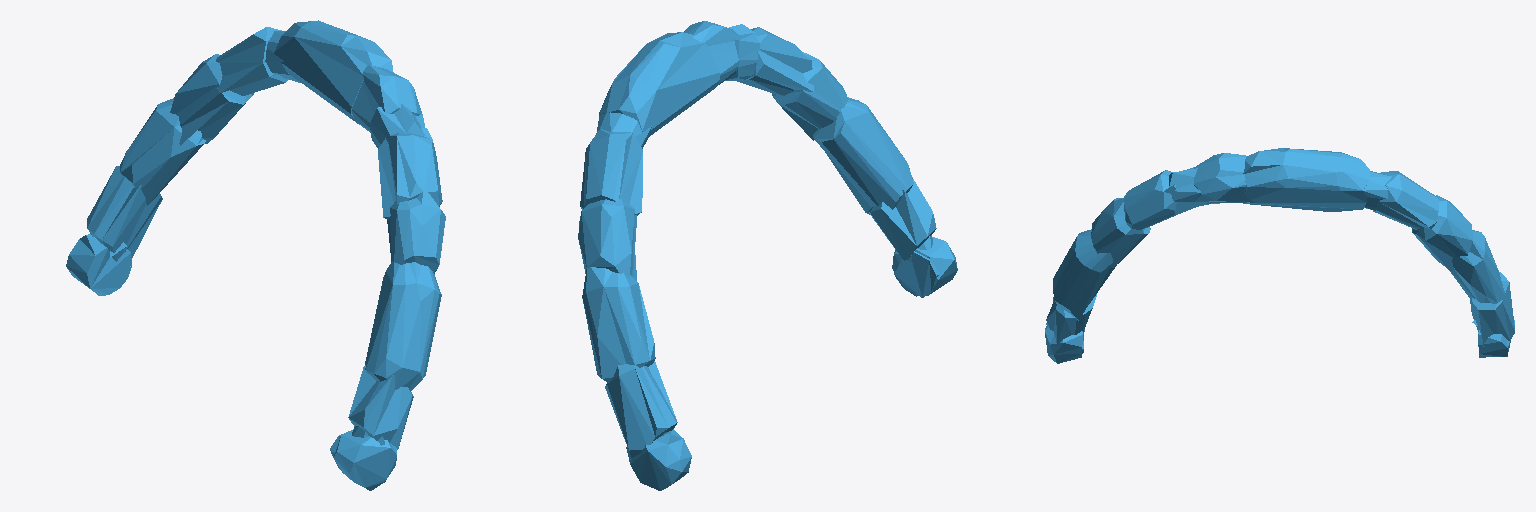
The robot description file, URDF, robot "partnet_3c173caf-9a3d-4f04-a150-bd295f8651c0-0":
<?xml version="1.0" ?><robot name="partnet_3c173caf-9a3d-4f04-a150-bd295f8651c0-0">
	<link name="base"/>
	<link name="link_0">
		<visual>
			<origin xyz="0 -0.5762112379034288 0.024401787677779792"/>
			<geometry>
				<mesh filename="new_objs/102352_link_0_23.obj"/>
			</geometry>
		</visual>
		<visual>
			<origin xyz="0 -0.5762112379034288 0.024401787677779792"/>
			<geometry>
				<mesh filename="new_objs/102352_link_0_15.obj"/>
			</geometry>
		</visual>
		<visual>
			<origin xyz="0 -0.5762112379034288 0.024401787677779792"/>
			<geometry>
				<mesh filename="new_objs/102352_link_0_14.obj"/>
			</geometry>
		</visual>
		<visual>
			<origin xyz="0 -0.5762112379034288 0.024401787677779792"/>
			<geometry>
				<mesh filename="new_objs/102352_link_0_18.obj"/>
			</geometry>
		</visual>
		<visual>
			<origin xyz="0 -0.5762112379034288 0.024401787677779792"/>
			<geometry>
				<mesh filename="new_objs/102352_link_0_7.obj"/>
			</geometry>
		</visual>
		<visual>
			<origin xyz="0 -0.5762112379034288 0.024401787677779792"/>
			<geometry>
				<mesh filename="new_objs/102352_link_0_10.obj"/>
			</geometry>
		</visual>
		<visual>
			<origin xyz="0 -0.5762112379034288 0.024401787677779792"/>
			<geometry>
				<mesh filename="new_objs/102352_link_0_9.obj"/>
			</geometry>
		</visual>
		<visual>
			<origin xyz="0 -0.5762112379034288 0.024401787677779792"/>
			<geometry>
				<mesh filename="new_objs/102352_link_0_20.obj"/>
			</geometry>
		</visual>
		<visual>
			<origin xyz="0 -0.5762112379034288 0.024401787677779792"/>
			<geometry>
				<mesh filename="new_objs/102352_link_0_6.obj"/>
			</geometry>
		</visual>
		<visual>
			<origin xyz="0 -0.5762112379034288 0.024401787677779792"/>
			<geometry>
				<mesh filename="new_objs/102352_link_0_27.obj"/>
			</geometry>
		</visual>
		<visual>
			<origin xyz="0 -0.5762112379034288 0.024401787677779792"/>
			<geometry>
				<mesh filename="new_objs/102352_link_0_0.obj"/>
			</geometry>
		</visual>
		<visual>
			<origin xyz="0 -0.5762112379034288 0.024401787677779792"/>
			<geometry>
				<mesh filename="new_objs/102352_link_0_5.obj"/>
			</geometry>
		</visual>
		<visual>
			<origin xyz="0 -0.5762112379034288 0.024401787677779792"/>
			<geometry>
				<mesh filename="new_objs/102352_link_0_4.obj"/>
			</geometry>
		</visual>
		<visual>
			<origin xyz="0 -0.5762112379034288 0.024401787677779792"/>
			<geometry>
				<mesh filename="new_objs/102352_link_0_11.obj"/>
			</geometry>
		</visual>
		<visual>
			<origin xyz="0 -0.5762112379034288 0.024401787677779792"/>
			<geometry>
				<mesh filename="new_objs/102352_link_0_21.obj"/>
			</geometry>
		</visual>
		<visual>
			<origin xyz="0 -0.5762112379034288 0.024401787677779792"/>
			<geometry>
				<mesh filename="new_objs/102352_link_0_12.obj"/>
			</geometry>
		</visual>
		<visual>
			<origin xyz="0 -0.5762112379034288 0.024401787677779792"/>
			<geometry>
				<mesh filename="new_objs/102352_link_0_26.obj"/>
			</geometry>
		</visual>
		<visual>
			<origin xyz="0 -0.5762112379034288 0.024401787677779792"/>
			<geometry>
				<mesh filename="new_objs/102352_link_0_22.obj"/>
			</geometry>
		</visual>
		<visual>
			<origin xyz="0 -0.5762112379034288 0.024401787677779792"/>
			<geometry>
				<mesh filename="new_objs/102352_link_0_16.obj"/>
			</geometry>
		</visual>
		<visual>
			<origin xyz="0 -0.5762112379034288 0.024401787677779792"/>
			<geometry>
				<mesh filename="new_objs/102352_link_0_13.obj"/>
			</geometry>
		</visual>
		<visual>
			<origin xyz="0 -0.5762112379034288 0.024401787677779792"/>
			<geometry>
				<mesh filename="new_objs/102352_link_0_2.obj"/>
			</geometry>
		</visual>
		<visual>
			<origin xyz="0 -0.5762112379034288 0.024401787677779792"/>
			<geometry>
				<mesh filename="new_objs/102352_link_0_8.obj"/>
			</geometry>
		</visual>
		<visual>
			<origin xyz="0 -0.5762112379034288 0.024401787677779792"/>
			<geometry>
				<mesh filename="new_objs/102352_link_0_3.obj"/>
			</geometry>
		</visual>
		<visual>
			<origin xyz="0 -0.5762112379034288 0.024401787677779792"/>
			<geometry>
				<mesh filename="new_objs/102352_link_0_17.obj"/>
			</geometry>
		</visual>
		<visual>
			<origin xyz="0 -0.5762112379034288 0.024401787677779792"/>
			<geometry>
				<mesh filename="new_objs/102352_link_0_19.obj"/>
			</geometry>
		</visual>
		<visual>
			<origin xyz="0 -0.5762112379034288 0.024401787677779792"/>
			<geometry>
				<mesh filename="new_objs/102352_link_0_25.obj"/>
			</geometry>
		</visual>
		<visual>
			<origin xyz="0 -0.5762112379034288 0.024401787677779792"/>
			<geometry>
				<mesh filename="new_objs/102352_link_0_1.obj"/>
			</geometry>
		</visual>
		<visual>
			<origin xyz="0 -0.5762112379034288 0.024401787677779792"/>
			<geometry>
				<mesh filename="new_objs/102352_link_0_24.obj"/>
			</geometry>
		</visual>
		
		
		
		<collision>
			<origin xyz="0 -0.5762112379034288 0.024401787677779792"/>
			<geometry>
				<mesh filename="new_objs/102352_link_0_23.obj"/>
			</geometry>
		</collision><collision>
			<origin xyz="0 -0.5762112379034288 0.024401787677779792"/>
			<geometry>
				<mesh filename="new_objs/102352_link_0_15.obj"/>
			</geometry>
		</collision><collision>
			<origin xyz="0 -0.5762112379034288 0.024401787677779792"/>
			<geometry>
				<mesh filename="new_objs/102352_link_0_14.obj"/>
			</geometry>
		</collision><collision>
			<origin xyz="0 -0.5762112379034288 0.024401787677779792"/>
			<geometry>
				<mesh filename="new_objs/102352_link_0_18.obj"/>
			</geometry>
		</collision><collision>
			<origin xyz="0 -0.5762112379034288 0.024401787677779792"/>
			<geometry>
				<mesh filename="new_objs/102352_link_0_7.obj"/>
			</geometry>
		</collision><collision>
			<origin xyz="0 -0.5762112379034288 0.024401787677779792"/>
			<geometry>
				<mesh filename="new_objs/102352_link_0_10.obj"/>
			</geometry>
		</collision><collision>
			<origin xyz="0 -0.5762112379034288 0.024401787677779792"/>
			<geometry>
				<mesh filename="new_objs/102352_link_0_9.obj"/>
			</geometry>
		</collision><collision>
			<origin xyz="0 -0.5762112379034288 0.024401787677779792"/>
			<geometry>
				<mesh filename="new_objs/102352_link_0_20.obj"/>
			</geometry>
		</collision><collision>
			<origin xyz="0 -0.5762112379034288 0.024401787677779792"/>
			<geometry>
				<mesh filename="new_objs/102352_link_0_6.obj"/>
			</geometry>
		</collision><collision>
			<origin xyz="0 -0.5762112379034288 0.024401787677779792"/>
			<geometry>
				<mesh filename="new_objs/102352_link_0_27.obj"/>
			</geometry>
		</collision><collision>
			<origin xyz="0 -0.5762112379034288 0.024401787677779792"/>
			<geometry>
				<mesh filename="new_objs/102352_link_0_0.obj"/>
			</geometry>
		</collision><collision>
			<origin xyz="0 -0.5762112379034288 0.024401787677779792"/>
			<geometry>
				<mesh filename="new_objs/102352_link_0_5.obj"/>
			</geometry>
		</collision><collision>
			<origin xyz="0 -0.5762112379034288 0.024401787677779792"/>
			<geometry>
				<mesh filename="new_objs/102352_link_0_4.obj"/>
			</geometry>
		</collision><collision>
			<origin xyz="0 -0.5762112379034288 0.024401787677779792"/>
			<geometry>
				<mesh filename="new_objs/102352_link_0_11.obj"/>
			</geometry>
		</collision><collision>
			<origin xyz="0 -0.5762112379034288 0.024401787677779792"/>
			<geometry>
				<mesh filename="new_objs/102352_link_0_21.obj"/>
			</geometry>
		</collision><collision>
			<origin xyz="0 -0.5762112379034288 0.024401787677779792"/>
			<geometry>
				<mesh filename="new_objs/102352_link_0_12.obj"/>
			</geometry>
		</collision><collision>
			<origin xyz="0 -0.5762112379034288 0.024401787677779792"/>
			<geometry>
				<mesh filename="new_objs/102352_link_0_26.obj"/>
			</geometry>
		</collision><collision>
			<origin xyz="0 -0.5762112379034288 0.024401787677779792"/>
			<geometry>
				<mesh filename="new_objs/102352_link_0_22.obj"/>
			</geometry>
		</collision><collision>
			<origin xyz="0 -0.5762112379034288 0.024401787677779792"/>
			<geometry>
				<mesh filename="new_objs/102352_link_0_16.obj"/>
			</geometry>
		</collision><collision>
			<origin xyz="0 -0.5762112379034288 0.024401787677779792"/>
			<geometry>
				<mesh filename="new_objs/102352_link_0_13.obj"/>
			</geometry>
		</collision><collision>
			<origin xyz="0 -0.5762112379034288 0.024401787677779792"/>
			<geometry>
				<mesh filename="new_objs/102352_link_0_2.obj"/>
			</geometry>
		</collision><collision>
			<origin xyz="0 -0.5762112379034288 0.024401787677779792"/>
			<geometry>
				<mesh filename="new_objs/102352_link_0_8.obj"/>
			</geometry>
		</collision><collision>
			<origin xyz="0 -0.5762112379034288 0.024401787677779792"/>
			<geometry>
				<mesh filename="new_objs/102352_link_0_3.obj"/>
			</geometry>
		</collision><collision>
			<origin xyz="0 -0.5762112379034288 0.024401787677779792"/>
			<geometry>
				<mesh filename="new_objs/102352_link_0_17.obj"/>
			</geometry>
		</collision><collision>
			<origin xyz="0 -0.5762112379034288 0.024401787677779792"/>
			<geometry>
				<mesh filename="new_objs/102352_link_0_19.obj"/>
			</geometry>
		</collision><collision>
			<origin xyz="0 -0.5762112379034288 0.024401787677779792"/>
			<geometry>
				<mesh filename="new_objs/102352_link_0_25.obj"/>
			</geometry>
		</collision><collision>
			<origin xyz="0 -0.5762112379034288 0.024401787677779792"/>
			<geometry>
				<mesh filename="new_objs/102352_link_0_1.obj"/>
			</geometry>
		</collision><collision>
			<origin xyz="0 -0.5762112379034288 0.024401787677779792"/>
			<geometry>
				<mesh filename="new_objs/102352_link_0_24.obj"/>
			</geometry>
		</collision></link>
	<joint name="joint_0" type="revolute">
		<origin xyz="0 0.5762112379034288 -0.024401787677779792"/>
		<axis xyz="-1 0 0"/>
		<child link="link_0"/>
		<parent link="link_1"/>
		<limit lower="0.926" upper="4.71867216569187"/>
	</joint>
	<link name="link_1">
		<collision>
			<origin xyz="0 0 0"/>
			<geometry>
				<mesh filename="new_objs/102352_link_1_7.obj"/>
			</geometry>
		</collision>
		<collision>
			<origin xyz="0 0 0"/>
			<geometry>
				<mesh filename="new_objs/102352_link_1_28.obj"/>
			</geometry>
		</collision>
		<collision>
			<origin xyz="0 0 0"/>
			<geometry>
				<mesh filename="new_objs/102352_link_1_23.obj"/>
			</geometry>
		</collision>
		<collision>
			<origin xyz="0 0 0"/>
			<geometry>
				<mesh filename="new_objs/102352_link_1_12.obj"/>
			</geometry>
		</collision>
		<collision>
			<origin xyz="0 0 0"/>
			<geometry>
				<mesh filename="new_objs/102352_link_1_26.obj"/>
			</geometry>
		</collision>
		<collision>
			<origin xyz="0 0 0"/>
			<geometry>
				<mesh filename="new_objs/102352_link_1_19.obj"/>
			</geometry>
		</collision>
		<collision>
			<origin xyz="0 0 0"/>
			<geometry>
				<mesh filename="new_objs/102352_link_1_40.obj"/>
			</geometry>
		</collision>
		<collision>
			<origin xyz="0 0 0"/>
			<geometry>
				<mesh filename="new_objs/102352_link_1_27.obj"/>
			</geometry>
		</collision>
		<collision>
			<origin xyz="0 0 0"/>
			<geometry>
				<mesh filename="new_objs/102352_link_1_32.obj"/>
			</geometry>
		</collision>
		<collision>
			<origin xyz="0 0 0"/>
			<geometry>
				<mesh filename="new_objs/102352_link_1_13.obj"/>
			</geometry>
		</collision>
		<collision>
			<origin xyz="0 0 0"/>
			<geometry>
				<mesh filename="new_objs/102352_link_1_20.obj"/>
			</geometry>
		</collision>
		<collision>
			<origin xyz="0 0 0"/>
			<geometry>
				<mesh filename="new_objs/102352_link_1_5.obj"/>
			</geometry>
		</collision>
		<collision>
			<origin xyz="0 0 0"/>
			<geometry>
				<mesh filename="new_objs/102352_link_1_6.obj"/>
			</geometry>
		</collision>
		<collision>
			<origin xyz="0 0 0"/>
			<geometry>
				<mesh filename="new_objs/102352_link_1_0.obj"/>
			</geometry>
		</collision>
		<collision>
			<origin xyz="0 0 0"/>
			<geometry>
				<mesh filename="new_objs/102352_link_1_18.obj"/>
			</geometry>
		</collision>
		<collision>
			<origin xyz="0 0 0"/>
			<geometry>
				<mesh filename="new_objs/102352_link_1_10.obj"/>
			</geometry>
		</collision>
		<collision>
			<origin xyz="0 0 0"/>
			<geometry>
				<mesh filename="new_objs/102352_link_1_34.obj"/>
			</geometry>
		</collision>
		<collision>
			<origin xyz="0 0 0"/>
			<geometry>
				<mesh filename="new_objs/102352_link_1_37.obj"/>
			</geometry>
		</collision>
		<collision>
			<origin xyz="0 0 0"/>
			<geometry>
				<mesh filename="new_objs/102352_link_1_14.obj"/>
			</geometry>
		</collision>
		<collision>
			<origin xyz="0 0 0"/>
			<geometry>
				<mesh filename="new_objs/102352_link_1_4.obj"/>
			</geometry>
		</collision>
		<collision>
			<origin xyz="0 0 0"/>
			<geometry>
				<mesh filename="new_objs/102352_link_1_39.obj"/>
			</geometry>
		</collision>
		<collision>
			<origin xyz="0 0 0"/>
			<geometry>
				<mesh filename="new_objs/102352_link_1_2.obj"/>
			</geometry>
		</collision>
		<collision>
			<origin xyz="0 0 0"/>
			<geometry>
				<mesh filename="new_objs/102352_link_1_11.obj"/>
			</geometry>
		</collision>
		<collision>
			<origin xyz="0 0 0"/>
			<geometry>
				<mesh filename="new_objs/102352_link_1_17.obj"/>
			</geometry>
		</collision>
		<collision>
			<origin xyz="0 0 0"/>
			<geometry>
				<mesh filename="new_objs/102352_link_1_30.obj"/>
			</geometry>
		</collision>
		<collision>
			<origin xyz="0 0 0"/>
			<geometry>
				<mesh filename="new_objs/102352_link_1_9.obj"/>
			</geometry>
		</collision>
		<collision>
			<origin xyz="0 0 0"/>
			<geometry>
				<mesh filename="new_objs/102352_link_1_3.obj"/>
			</geometry>
		</collision>
		<collision>
			<origin xyz="0 0 0"/>
			<geometry>
				<mesh filename="new_objs/102352_link_1_36.obj"/>
			</geometry>
		</collision>
		<collision>
			<origin xyz="0 0 0"/>
			<geometry>
				<mesh filename="new_objs/102352_link_1_29.obj"/>
			</geometry>
		</collision>
		<collision>
			<origin xyz="0 0 0"/>
			<geometry>
				<mesh filename="new_objs/102352_link_1_22.obj"/>
			</geometry>
		</collision>
		<collision>
			<origin xyz="0 0 0"/>
			<geometry>
				<mesh filename="new_objs/102352_link_1_35.obj"/>
			</geometry>
		</collision>
		<collision>
			<origin xyz="0 0 0"/>
			<geometry>
				<mesh filename="new_objs/102352_link_1_31.obj"/>
			</geometry>
		</collision>
		<collision>
			<origin xyz="0 0 0"/>
			<geometry>
				<mesh filename="new_objs/102352_link_1_15.obj"/>
			</geometry>
		</collision>
		<collision>
			<origin xyz="0 0 0"/>
			<geometry>
				<mesh filename="new_objs/102352_link_1_25.obj"/>
			</geometry>
		</collision>
		<collision>
			<origin xyz="0 0 0"/>
			<geometry>
				<mesh filename="new_objs/102352_link_1_8.obj"/>
			</geometry>
		</collision>
		<collision>
			<origin xyz="0 0 0"/>
			<geometry>
				<mesh filename="new_objs/102352_link_1_33.obj"/>
			</geometry>
		</collision>
		<collision>
			<origin xyz="0 0 0"/>
			<geometry>
				<mesh filename="new_objs/102352_link_1_38.obj"/>
			</geometry>
		</collision>
		<collision>
			<origin xyz="0 0 0"/>
			<geometry>
				<mesh filename="new_objs/102352_link_1_1.obj"/>
			</geometry>
		</collision>
		<collision>
			<origin xyz="0 0 0"/>
			<geometry>
				<mesh filename="new_objs/102352_link_1_16.obj"/>
			</geometry>
		</collision>
		<collision>
			<origin xyz="0 0 0"/>
			<geometry>
				<mesh filename="new_objs/102352_link_1_21.obj"/>
			</geometry>
		</collision>
		<collision>
			<origin xyz="0 0 0"/>
			<geometry>
				<mesh filename="new_objs/102352_link_1_24.obj"/>
			</geometry>
		</collision>
		<visual name="base_body-part[&quot;id]">
			<origin xyz="0 0 0"/>
			<geometry>
				<mesh filename="textured_objs/original-8.obj"/>
			</geometry>
		</visual>
		<visual name="base_body-part[&quot;id]">
			<origin xyz="0 0 0"/>
			<geometry>
				<mesh filename="textured_objs/original-6.obj"/>
			</geometry>
		</visual>
		<visual name="base_body-part[&quot;id]">
			<origin xyz="0 0 0"/>
			<geometry>
				<mesh filename="textured_objs/original-7.obj"/>
			</geometry>
		</visual>
		</link>
	<joint name="joint_1" type="fixed">
		<origin rpy="1.570796326794897 0 -1.570796326794897" xyz="0 0 0"/>
		<child link="link_1"/>
		<parent link="base"/>
	</joint>
</robot>

--- Facts derived from the render (not from the file) ---
The picture shows the robot from 3 angles, left to right: view 1: azimuth 30°, elevation 25°; view 2: azimuth 150°, elevation 25°; view 3: azimuth 270°, elevation 25°; orthographic projection.
Model partnet_3c173caf-9a3d-4f04-a150-bd295f8651c0-0 with 3 links and 2 joints (1 revolute, 1 fixed), rooted at base, posed all joints at 0 but 1 set to mid-range because 0 is outside their limits (joint_0 = 2.82).
Visible links, largest first — view 1: link_0; view 2: link_0; view 3: link_0.
Boxes of the visible links, bbox=[...] form: link_0: bbox=[66, 20, 445, 490]; link_0: bbox=[578, 21, 957, 490]; link_0: bbox=[1045, 148, 1514, 363].
Bounding box of the posed robot: 0.6261 × 1.75 × 1.07 m (x, y, z).
28 mesh visuals loaded from 31 distinct referenced files (28 OBJ); not drawn: 3 (reference not matched to a file when rendering).
